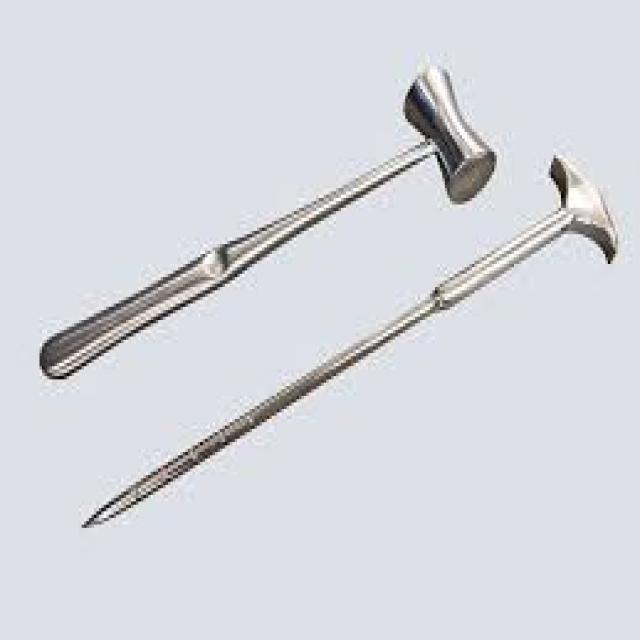hammer: (23, 57, 506, 395), (370, 148, 628, 328)
